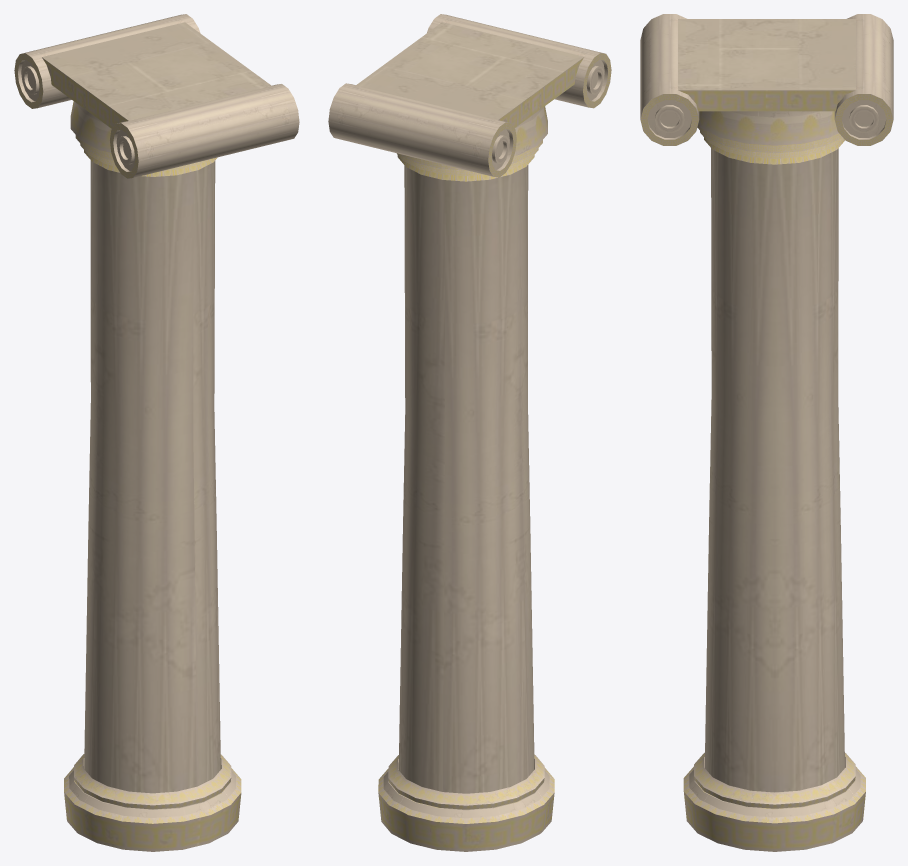
Rendered from SM_temple_column_03.glb.
3 views of the same model, side by side, from view 1: azimuth 30°, elevation 25°; view 2: azimuth 150°, elevation 25°; view 3: azimuth 270°, elevation 25° (orthographic). The views are drawn at different scales.
Parts seen in each view (by area): view 1: SM_temple_column_03; view 2: SM_temple_column_03; view 3: SM_temple_column_03.
Part boxes in pixels (box(x1,y1,x2,y2)): SM_temple_column_03: box(14, 14, 299, 851); SM_temple_column_03: box(328, 14, 611, 851); SM_temple_column_03: box(640, 14, 893, 851).
Bounding box in the file's own units: 2.77 × 12.28 × 3.7.
Materials: 1 (1 with a texture image).
